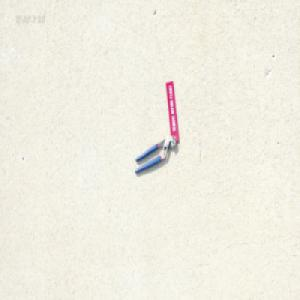Label: (165, 79, 179, 141)
Pliers: (134, 136, 176, 174)
